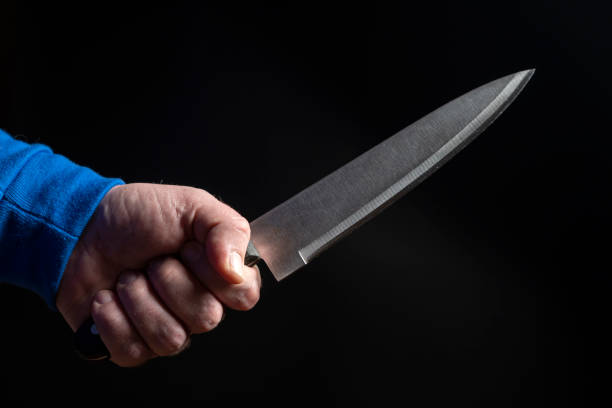knife: (69, 66, 538, 364)
